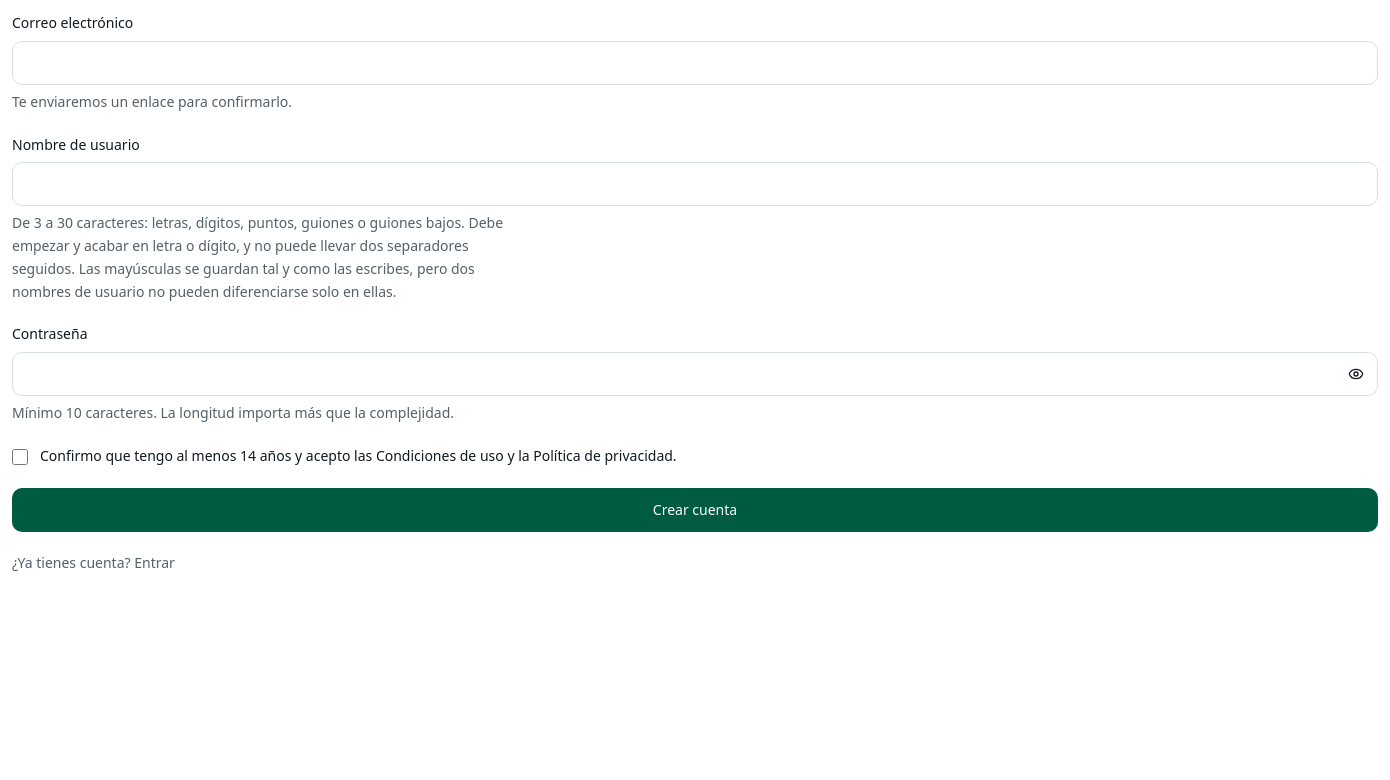
Test: RegisterForm › registerForm_spanishLocale_translatesTheValidationMessages
Step 1. Type "ruben@correo" into the field labelled "Correo electrónico" → (695, 63), box [12,41,1378,85]
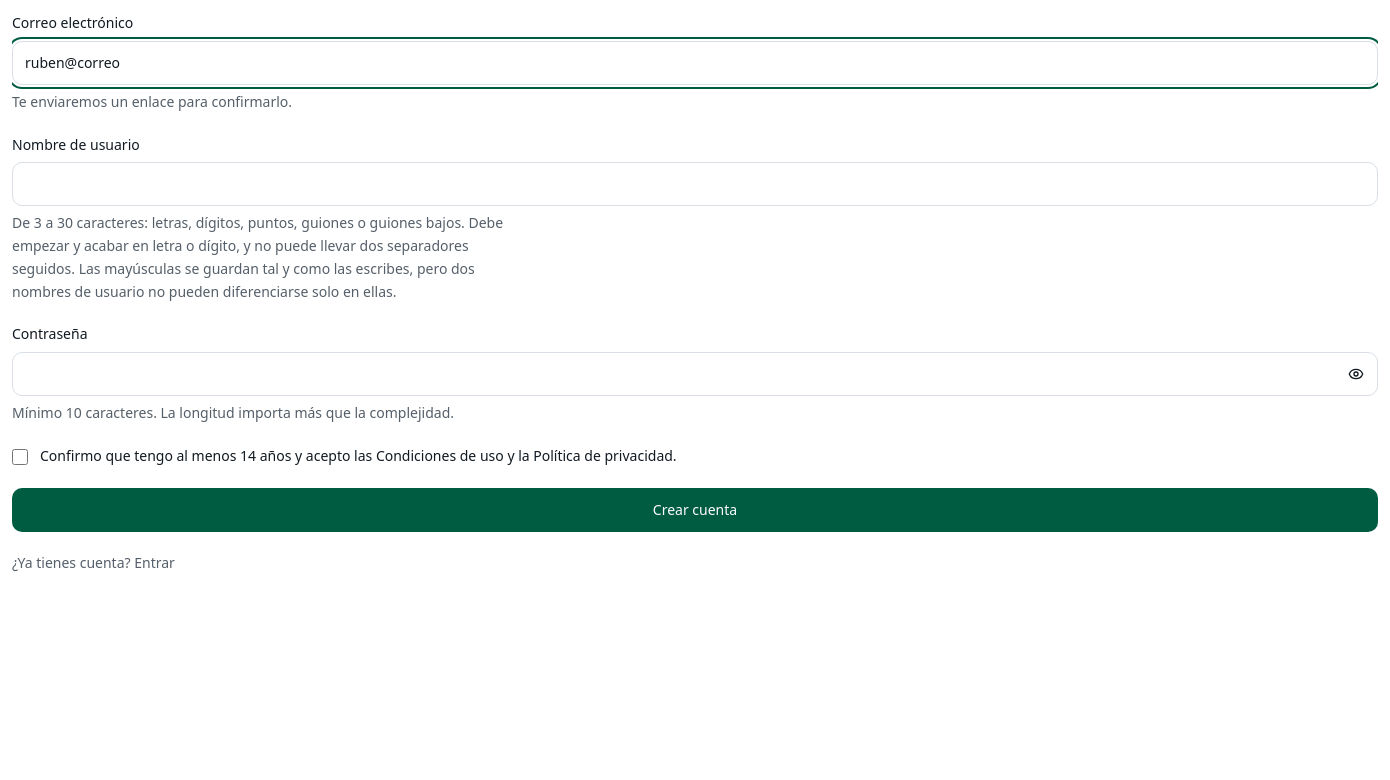
Step 2. Type "ruben" into the field labelled "Nombre de usuario" → (695, 184), box [12,162,1378,206]
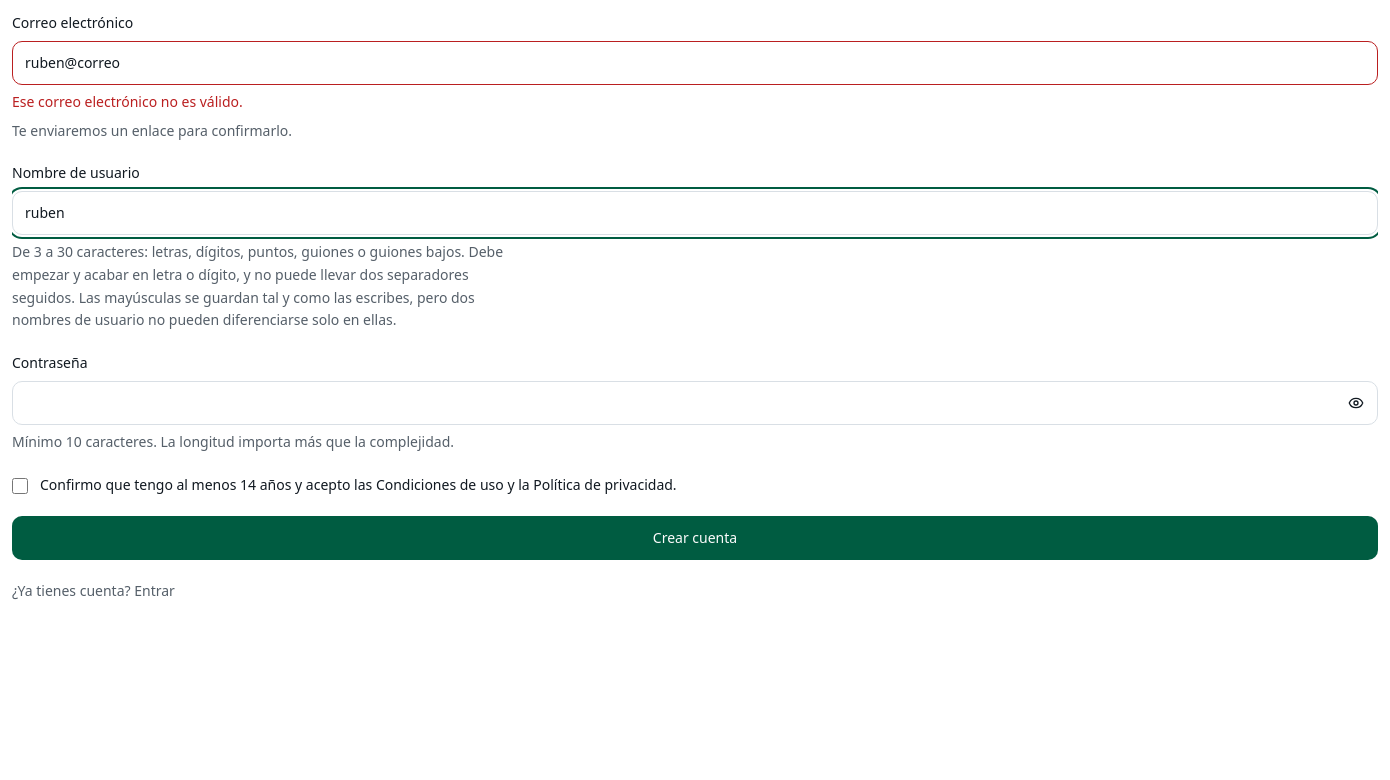
Step 3. Type "corta" into the password field labelled "Contraseña" → (695, 403), box [12,381,1378,425]
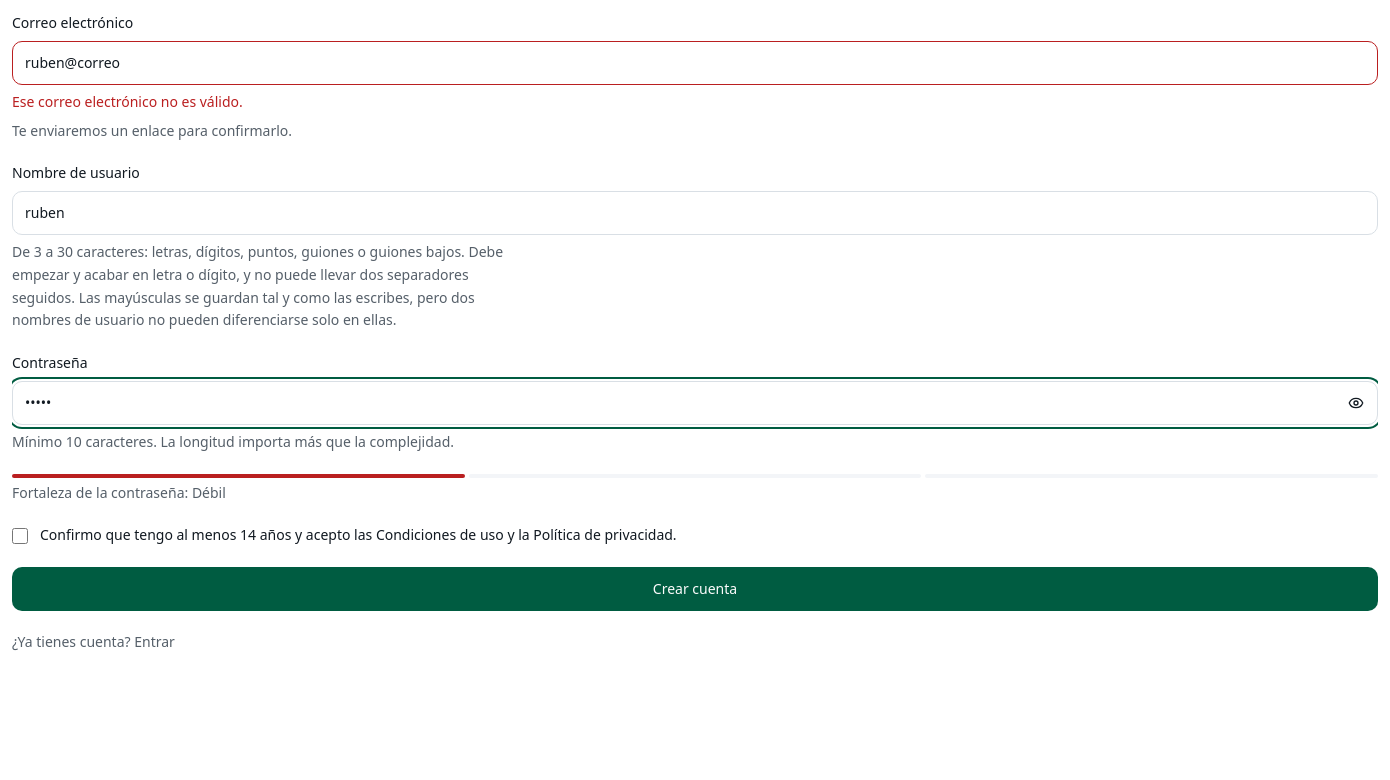
Step 4. Click the button "Crear cuenta" → (695, 589), box [12,567,1378,611]
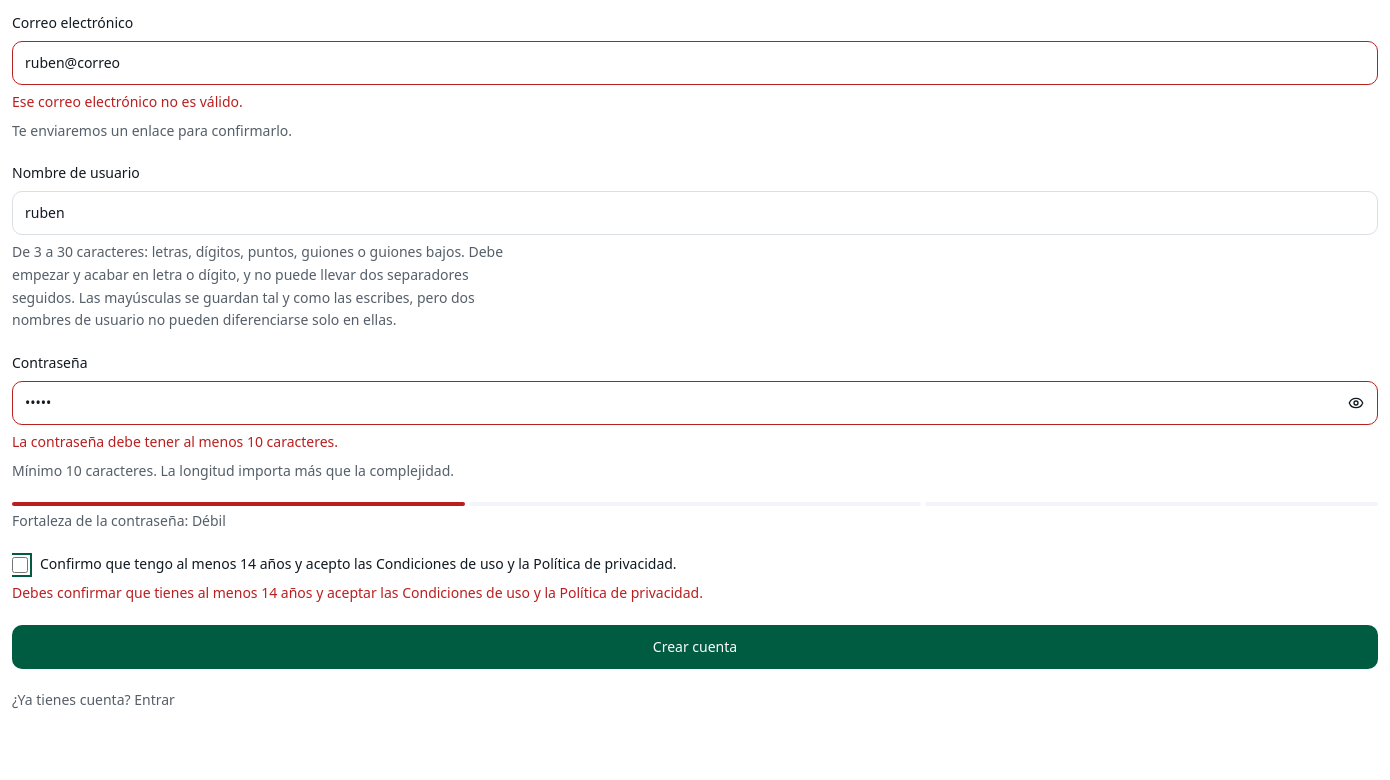
Now the text "Ese correo electrónico no es válido." is shown, box [12,92,243,111]
Now the text "La contraseña debe tener al menos 10 caracteres." is shown, box [12,432,338,451]
